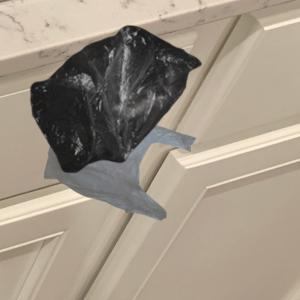plastic_bag: (30, 23, 199, 223)
